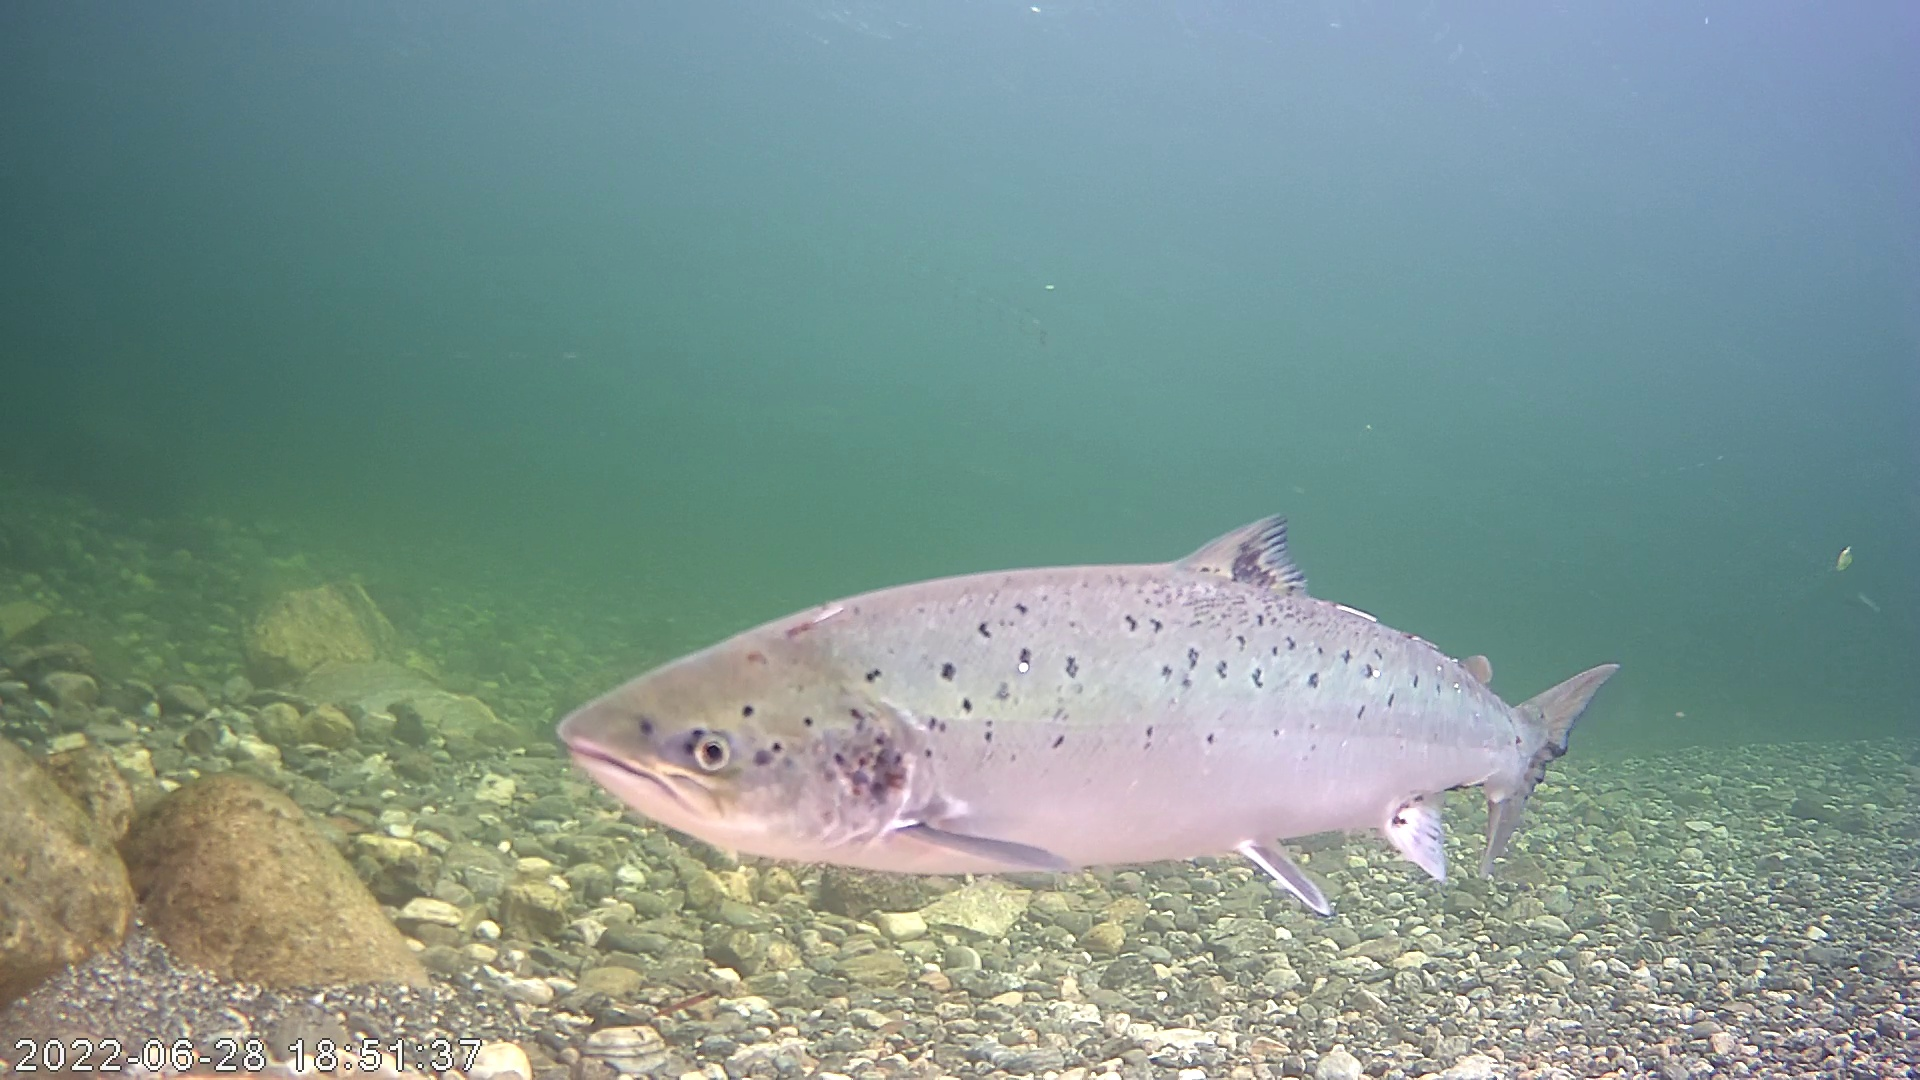salmon: (545, 448, 1615, 903)
